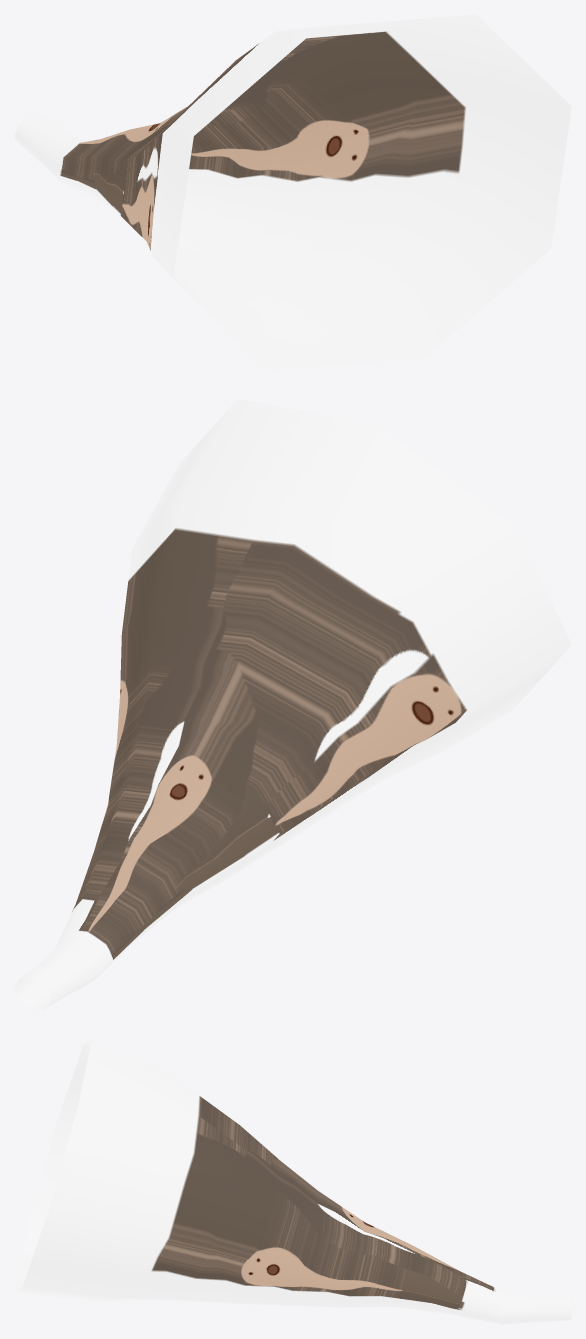
Rendered from hunsonDeathSouls.fbx.
The picture shows the model from 3 angles, top to bottom: view 1: azimuth 30°, elevation 25°; view 2: azimuth 150°, elevation 25°; view 3: azimuth 270°, elevation 25°; orthographic projection. The views are drawn at different scales.
Parts seen in each view (by area): view 1: hunsonSouls; view 2: hunsonSouls; view 3: hunsonSouls.
Part boxes in pixels (bbox=[...]): hunsonSouls: bbox=[14, 14, 571, 370]; hunsonSouls: bbox=[14, 399, 571, 1009]; hunsonSouls: bbox=[14, 1038, 571, 1324].
Size of the model in its own units: 1242 by 1086 by 1996.
